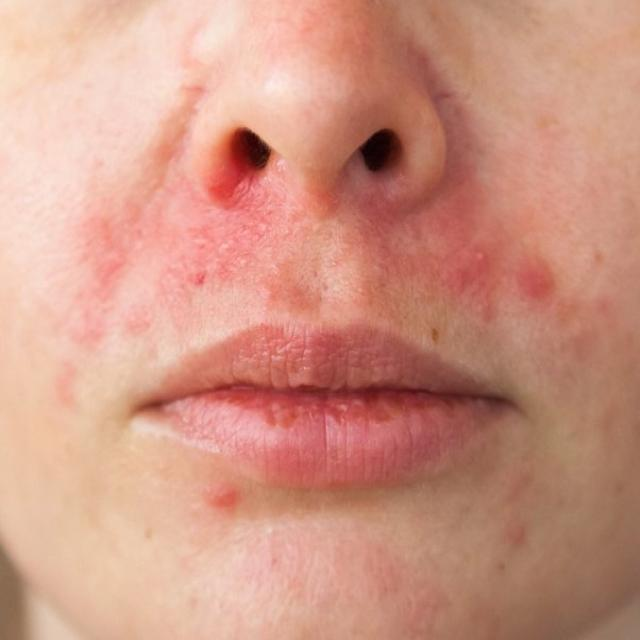dry: (226, 514, 480, 631), (28, 36, 142, 248), (516, 34, 630, 216)
